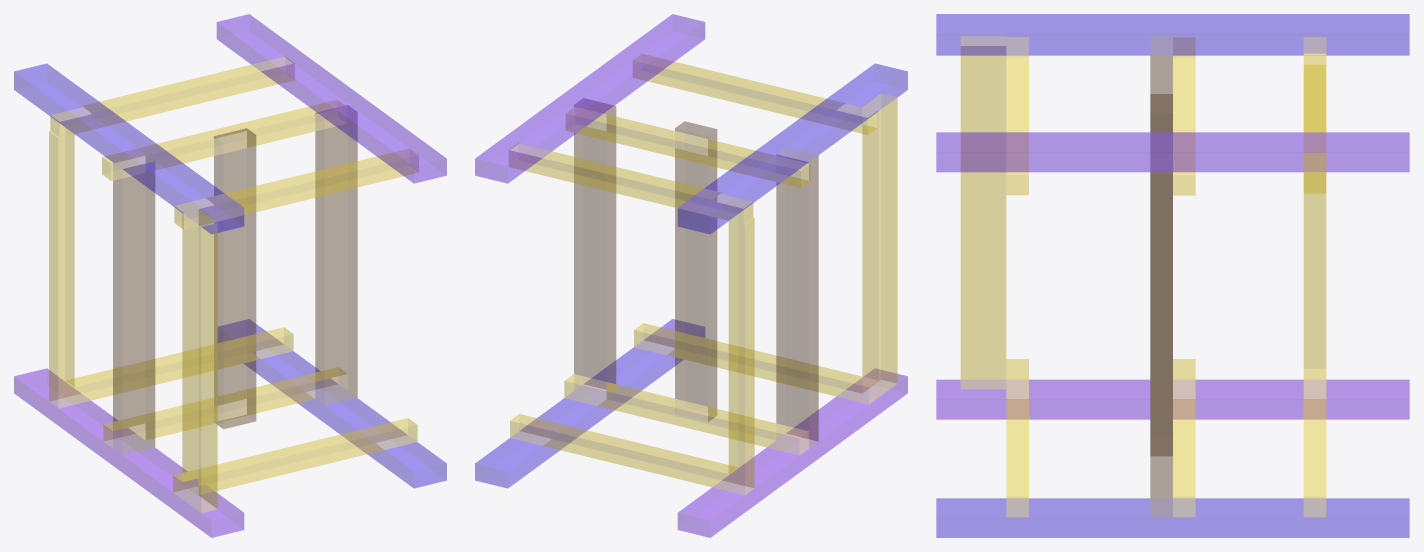
Rendered from tinker.obj.
3 renders of one model, left to right at view 1: azimuth 30°, elevation 25°; view 2: azimuth 150°, elevation 25°; view 3: azimuth 270°, elevation 25°, orthographic. The views are drawn at different scales.
Parts seen in each view (by area): view 1: group_0_-1023419110, group_0_-1033881325, group_0_-1038024449, group_0_-1034551041, group_0_-1033568001; view 2: group_0_-1023419110, group_0_-1033881325, group_0_-1038024449, group_0_-1034551041, group_0_-1033568001; view 3: group_0_-1023419110, group_0_-1038024449, group_0_-1034551041, group_0_-1033568001, group_0_-1033881325.
Boxes of the visible parts, box(x1,y1,x2,y2) form: group_0_-1023419110: box(49, 56, 418, 512); group_0_-1033881325: box(113, 105, 357, 454); group_0_-1038024449: box(14, 63, 446, 488); group_0_-1034551041: box(217, 14, 446, 183); group_0_-1033568001: box(14, 368, 243, 537); group_0_-1023419110: box(509, 54, 897, 494); group_0_-1033881325: box(574, 98, 818, 447); group_0_-1038024449: box(475, 63, 907, 488); group_0_-1034551041: box(475, 14, 704, 183); group_0_-1033568001: box(678, 368, 907, 537); group_0_-1023419110: box(961, 37, 1326, 516); group_0_-1038024449: box(936, 14, 1409, 537); group_0_-1034551041: box(936, 132, 1409, 171); group_0_-1033568001: box(936, 380, 1409, 419); group_0_-1033881325: box(1150, 37, 1172, 516).
Bounding box in the file's own units: 174 × 225 × 250.
